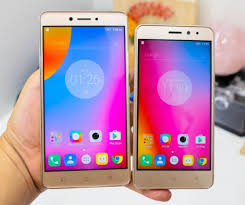lenovo: (34, 7, 129, 190), (133, 20, 215, 192)
